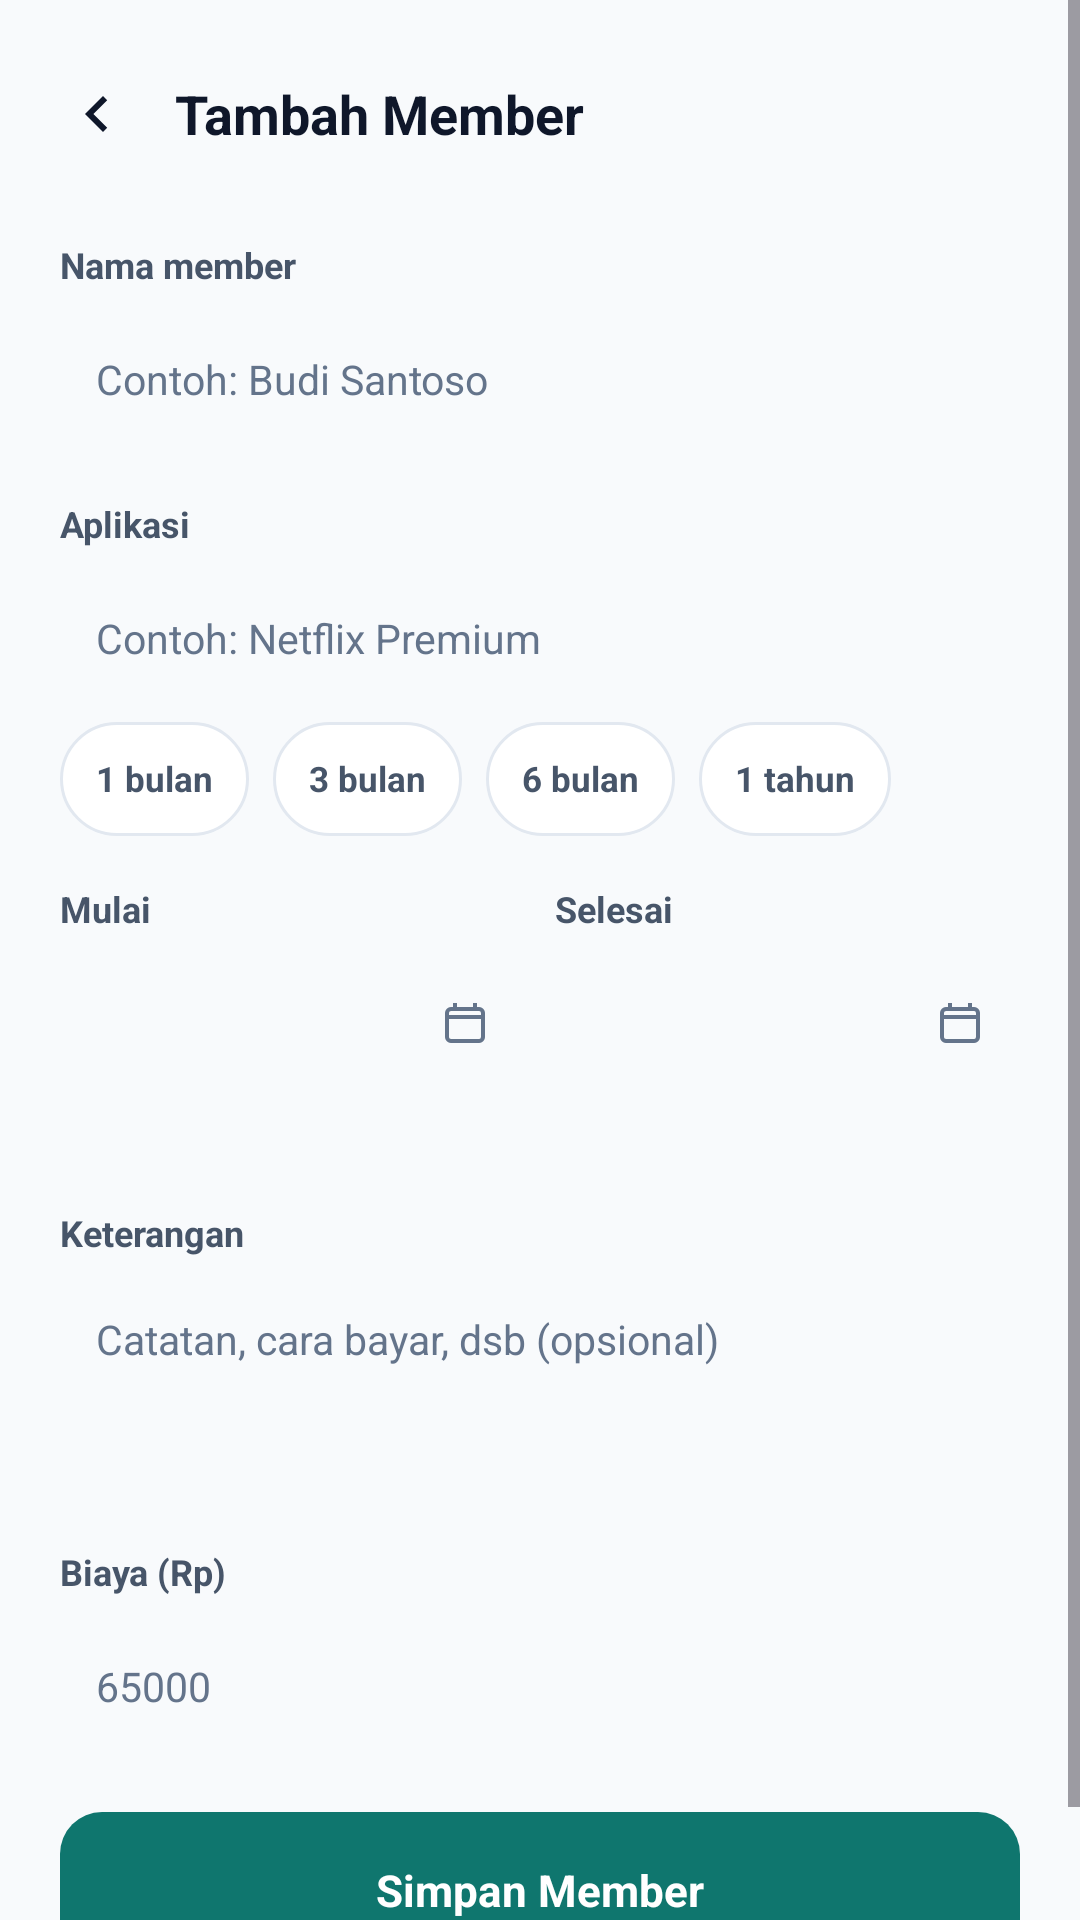

Where to tap for icons on this 1080 x 1920 app screen, as [x,y]:
Kembali: [96,114]
